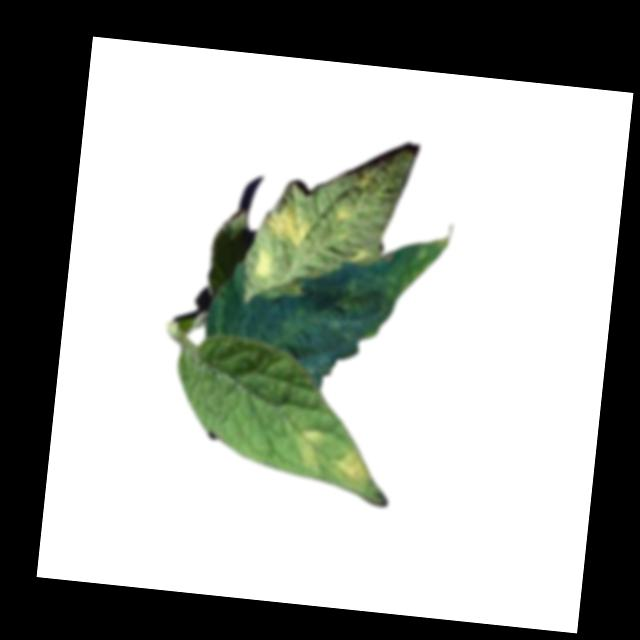Leaf_Mold: (377, 229, 446, 305), (259, 197, 313, 247), (326, 442, 376, 493), (289, 422, 326, 471), (249, 247, 276, 284), (327, 199, 357, 225)
